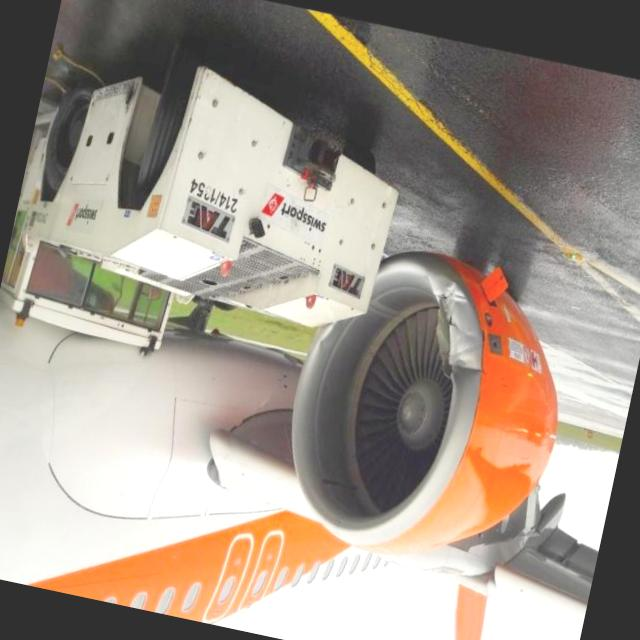crack: (420, 292, 470, 380)
dent: (447, 327, 488, 372), (438, 277, 473, 317), (319, 314, 342, 351)
